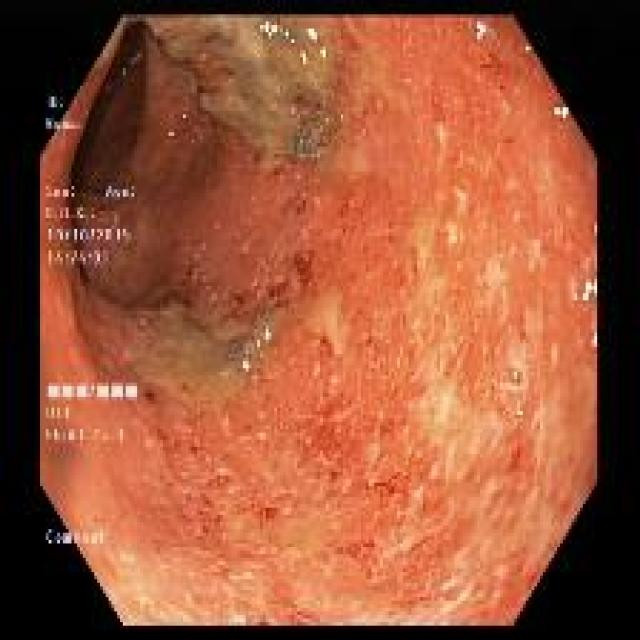ulcerative-colitis: (40, 17, 596, 623)
